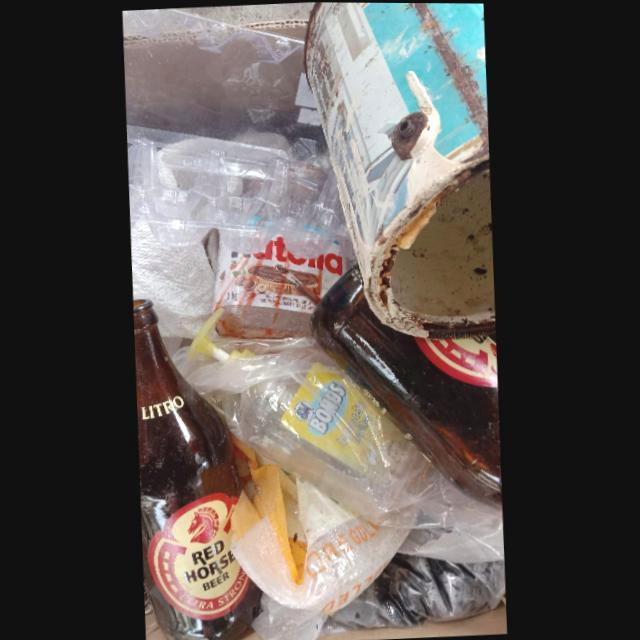aluminum: (305, 2, 498, 338)
glass_bottle: (311, 264, 505, 508), (135, 297, 266, 640)
plastic_container: (128, 124, 356, 258), (215, 234, 344, 338)
